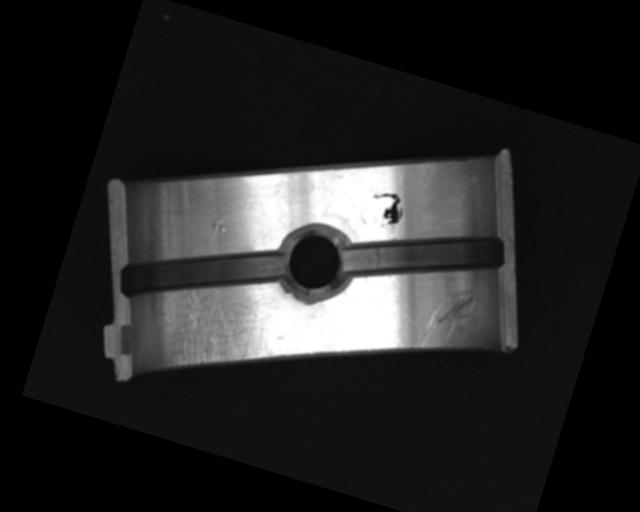blot: (364, 187, 409, 231)
bruise: (207, 212, 230, 234)
gap: (114, 209, 295, 341), (341, 194, 512, 314)
hole: (270, 218, 358, 303)
nick: (415, 275, 481, 359)
scratch: (138, 275, 285, 389)
